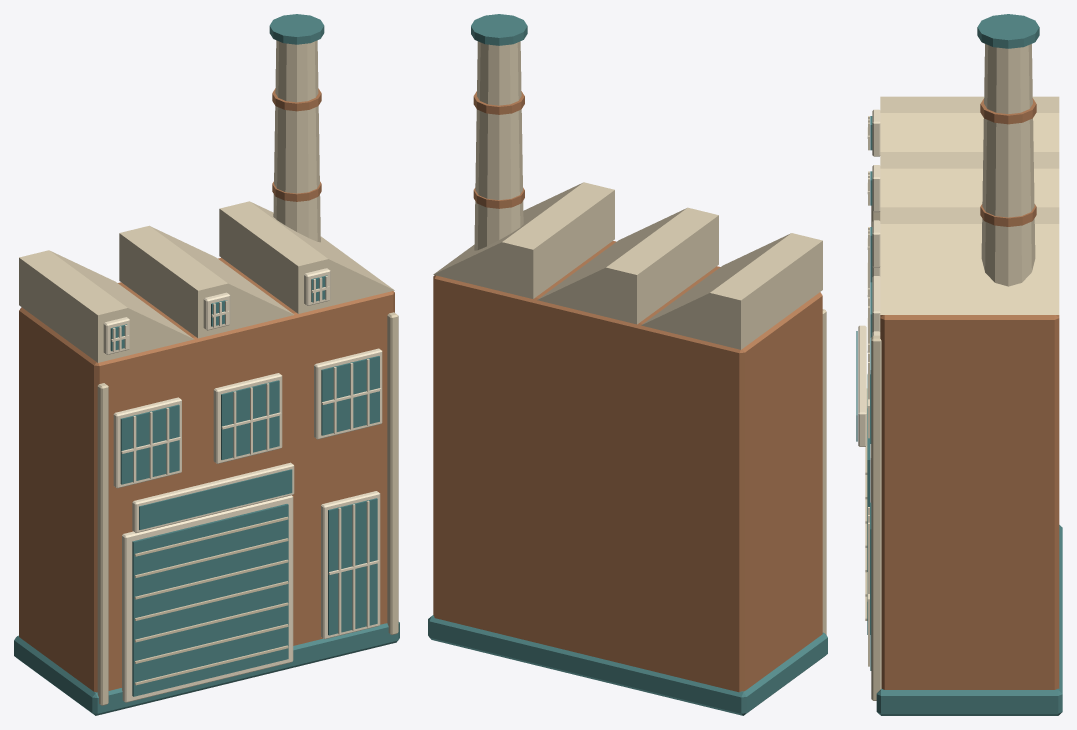
Rendered from hsc3_sawtooth_roastery_7m.glb.
The picture shows the model from 3 angles, left to right: view 1: azimuth 30°, elevation 25°; view 2: azimuth 150°, elevation 25°; view 3: azimuth 270°, elevation 25°; orthographic projection. The views are drawn at different scales.
Parts seen in each view (by area): view 1: hsc3_sawtooth_roastery_7m__hsc3-roasted-copper, hsc3_sawtooth_roastery_7m__hsc3-deep-teal, hsc3_sawtooth_roastery_7m__hsc3-cream-enamel, hsc3_sawtooth_roastery_7m__hsc3-pale-trim; view 2: hsc3_sawtooth_roastery_7m__hsc3-roasted-copper, hsc3_sawtooth_roastery_7m__hsc3-cream-enamel, hsc3_sawtooth_roastery_7m__hsc3-deep-teal; view 3: hsc3_sawtooth_roastery_7m__hsc3-roasted-copper, hsc3_sawtooth_roastery_7m__hsc3-cream-enamel, hsc3_sawtooth_roastery_7m__hsc3-deep-teal, hsc3_sawtooth_roastery_7m__hsc3-pale-trim.
Part boxes in pixels (left/top/right/bottom): hsc3_sawtooth_roastery_7m__hsc3-roasted-copper: left=19, top=88, right=394, bottom=692; hsc3_sawtooth_roastery_7m__hsc3-deep-teal: left=14, top=14, right=399, bottom=715; hsc3_sawtooth_roastery_7m__hsc3-cream-enamel: left=19, top=40, right=398, bottom=705; hsc3_sawtooth_roastery_7m__hsc3-pale-trim: left=103, top=268, right=382, bottom=702; hsc3_sawtooth_roastery_7m__hsc3-roasted-copper: left=433, top=91, right=822, bottom=692; hsc3_sawtooth_roastery_7m__hsc3-cream-enamel: left=433, top=41, right=826, bottom=634; hsc3_sawtooth_roastery_7m__hsc3-deep-teal: left=428, top=14, right=827, bottom=715; hsc3_sawtooth_roastery_7m__hsc3-roasted-copper: left=880, top=98, right=1059, bottom=689; hsc3_sawtooth_roastery_7m__hsc3-cream-enamel: left=865, top=44, right=1059, bottom=700; hsc3_sawtooth_roastery_7m__hsc3-deep-teal: left=856, top=14, right=1062, bottom=715; hsc3_sawtooth_roastery_7m__hsc3-pale-trim: left=858, top=109, right=880, bottom=666.
Bounding box in the file's own units: 6.75 × 12.3 × 3.46.
